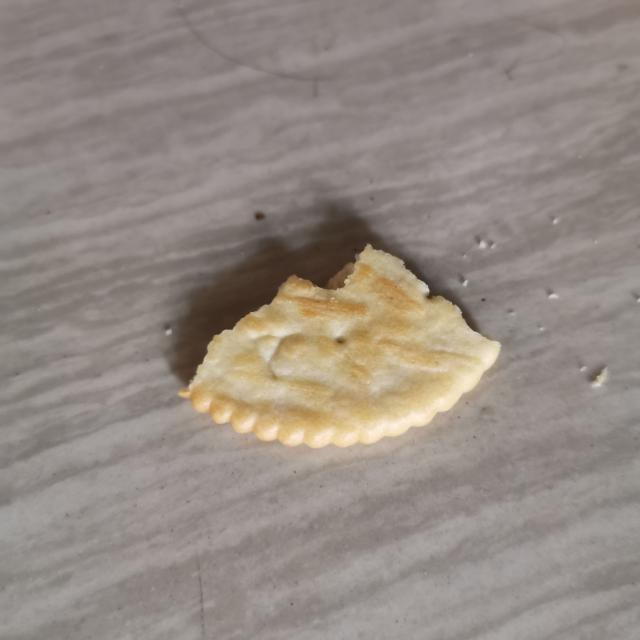Broken: (178, 242, 502, 450)
